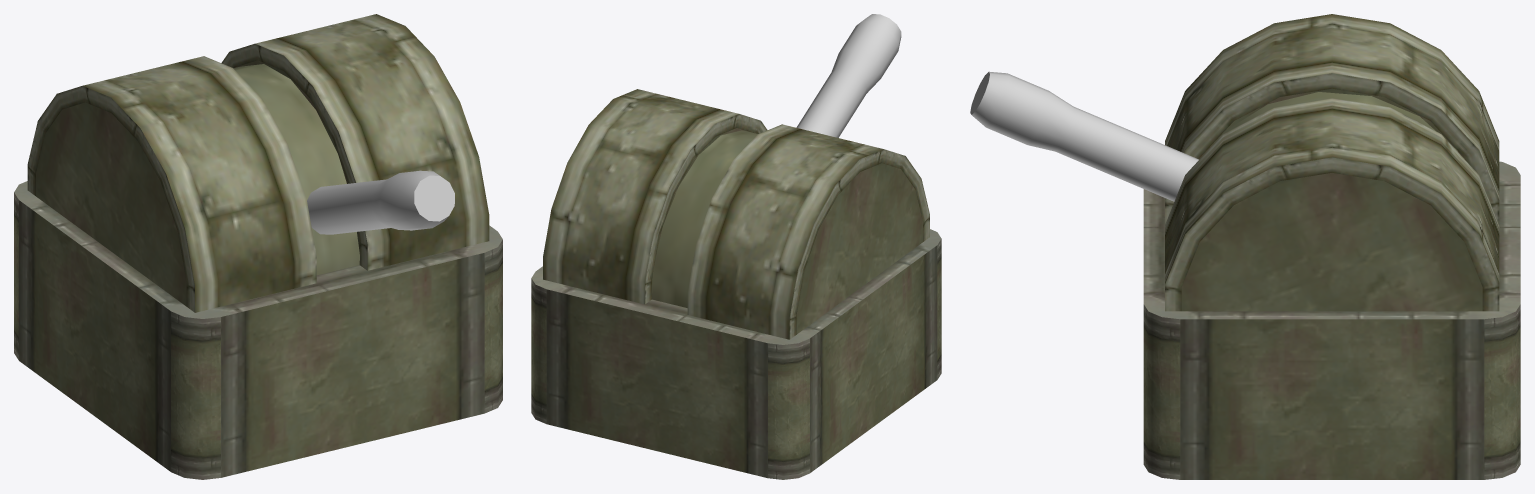
File: lever-02.fbx
3 renders of one model, left to right at view 1: azimuth 30°, elevation 25°; view 2: azimuth 150°, elevation 25°; view 3: azimuth 270°, elevation 25°, orthographic. The views are drawn at different scales.
Parts seen in each view (by area): view 1: Cube.002, Cube.003; view 2: Cube.002, Cube.003; view 3: Cube.002, Cube.003.
Part boxes in pixels (box(x1,y1,x2,y2)): Cube.002: box(14, 14, 502, 479); Cube.003: box(307, 170, 454, 234); Cube.002: box(531, 89, 941, 479); Cube.003: box(796, 14, 901, 137); Cube.002: box(1143, 14, 1520, 479); Cube.003: box(970, 71, 1198, 201).
Size of the model in its own units: 0.8 by 0.7633 by 1.17.
